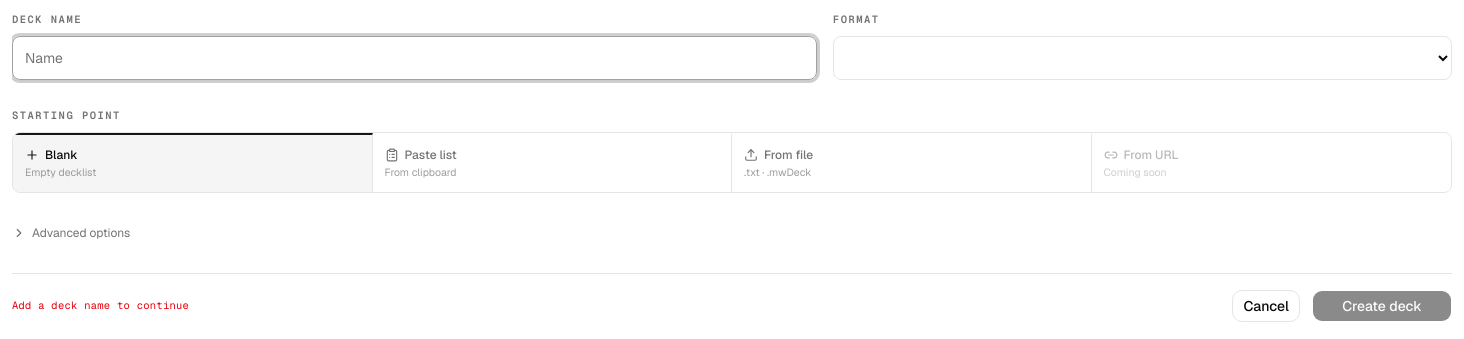
Test case: DeckCreateForm › disables the create button until a name is entered (UI-level guard)
This screenshot has width=1464, height=339.
Expected: the button "Create deck" is disabled, x1=1312 y1=290 x2=1452 y2=322
Type "My Deck" into the field labelled "Deck name" at (414, 58), box x1=12 y1=36 x2=817 y2=80
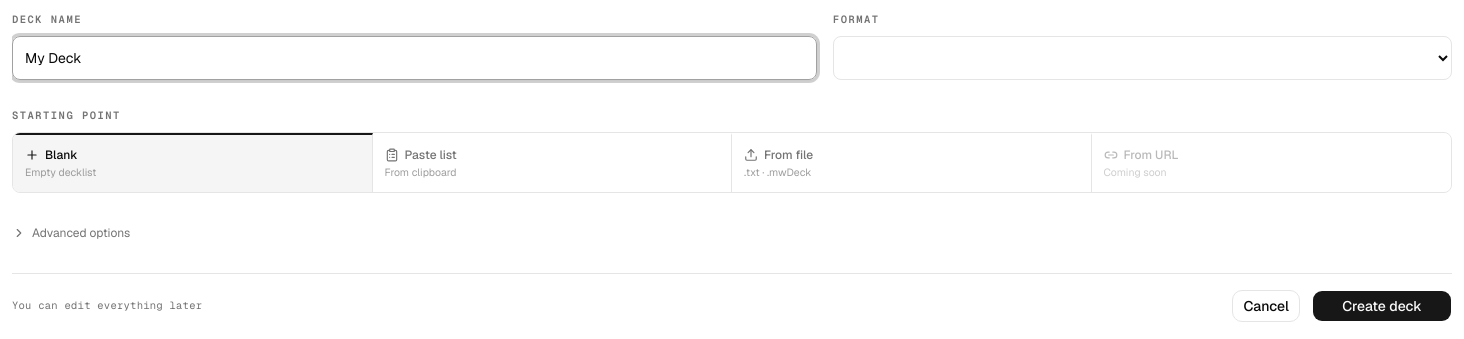
Now the button "Create deck" is enabled, box x1=1312 y1=290 x2=1452 y2=322
